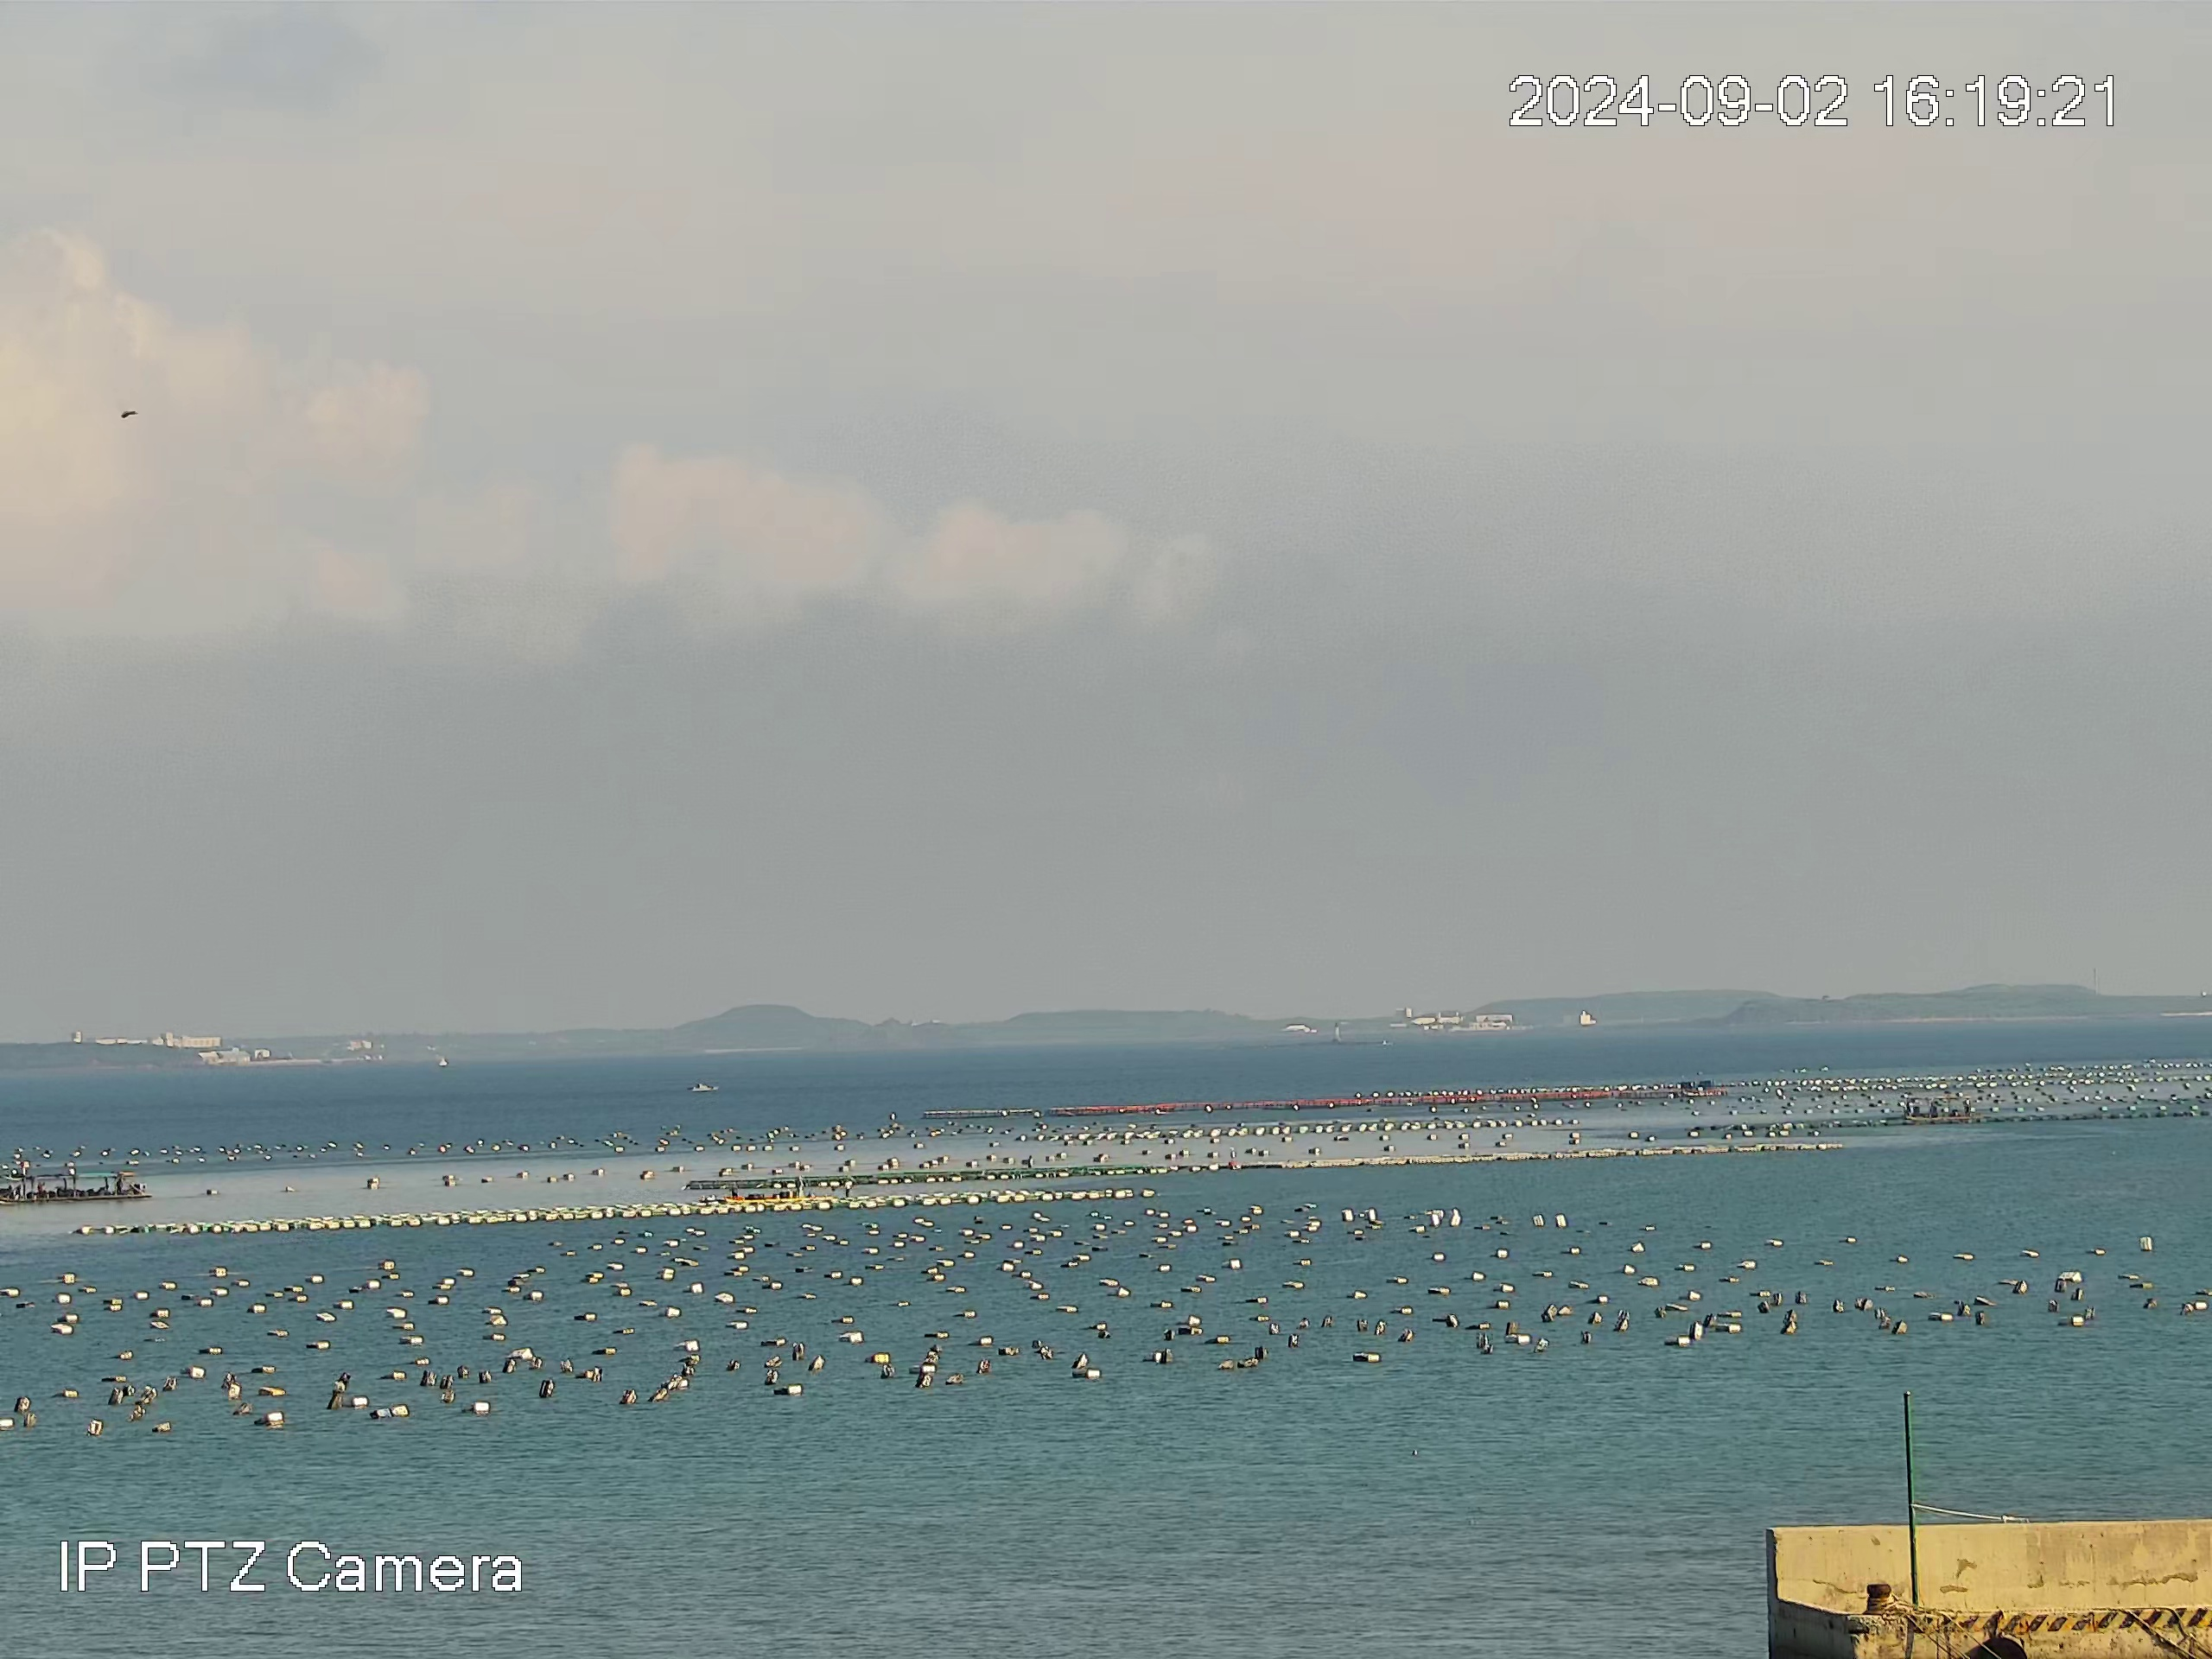boat: (0, 1159, 153, 1206), (723, 1175, 813, 1204), (1897, 1094, 1975, 1127), (690, 1082, 719, 1093)
